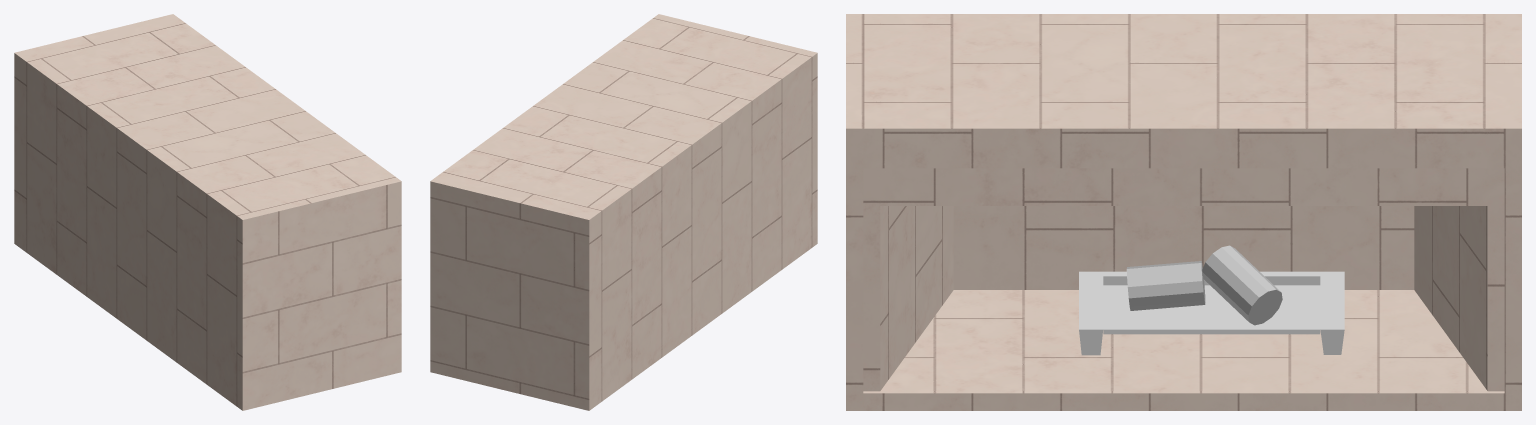
Rendered from Lareira.fbx.
3 views of the same model, side by side, from view 1: azimuth 30°, elevation 25°; view 2: azimuth 150°, elevation 25°; view 3: azimuth 270°, elevation 25° (orthographic). The views are drawn at different scales.
Parts seen in each view (by area): view 1: Lareira; view 2: Lareira; view 3: Lareira, Cube, Cylinder.001, Cylinder.
Boxes of the visible parts, x1,y1,x2,y2 form: Lareira: (14, 14, 401, 410); Lareira: (430, 14, 817, 410); Lareira: (846, 14, 1521, 410); Cube: (1079, 271, 1344, 355); Cylinder.001: (1202, 245, 1282, 325); Cylinder: (1126, 261, 1205, 310).
Size of the model in its own units: 87.56 by 100 by 218.
